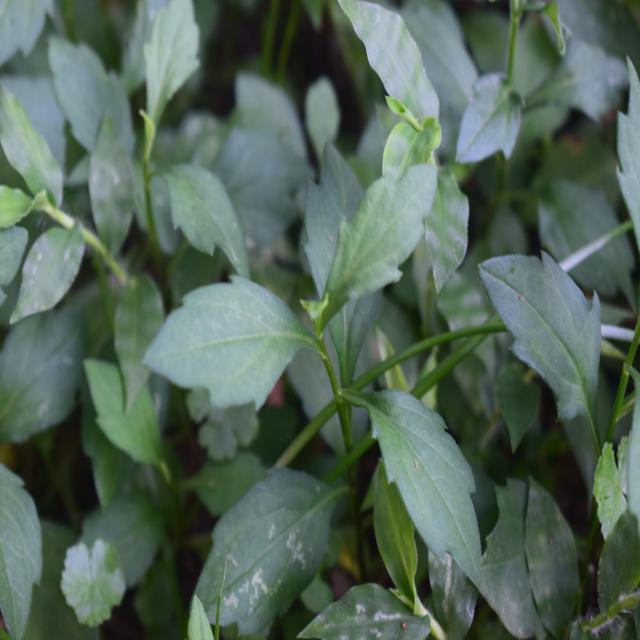Indian aster: (160, 108, 496, 546)
